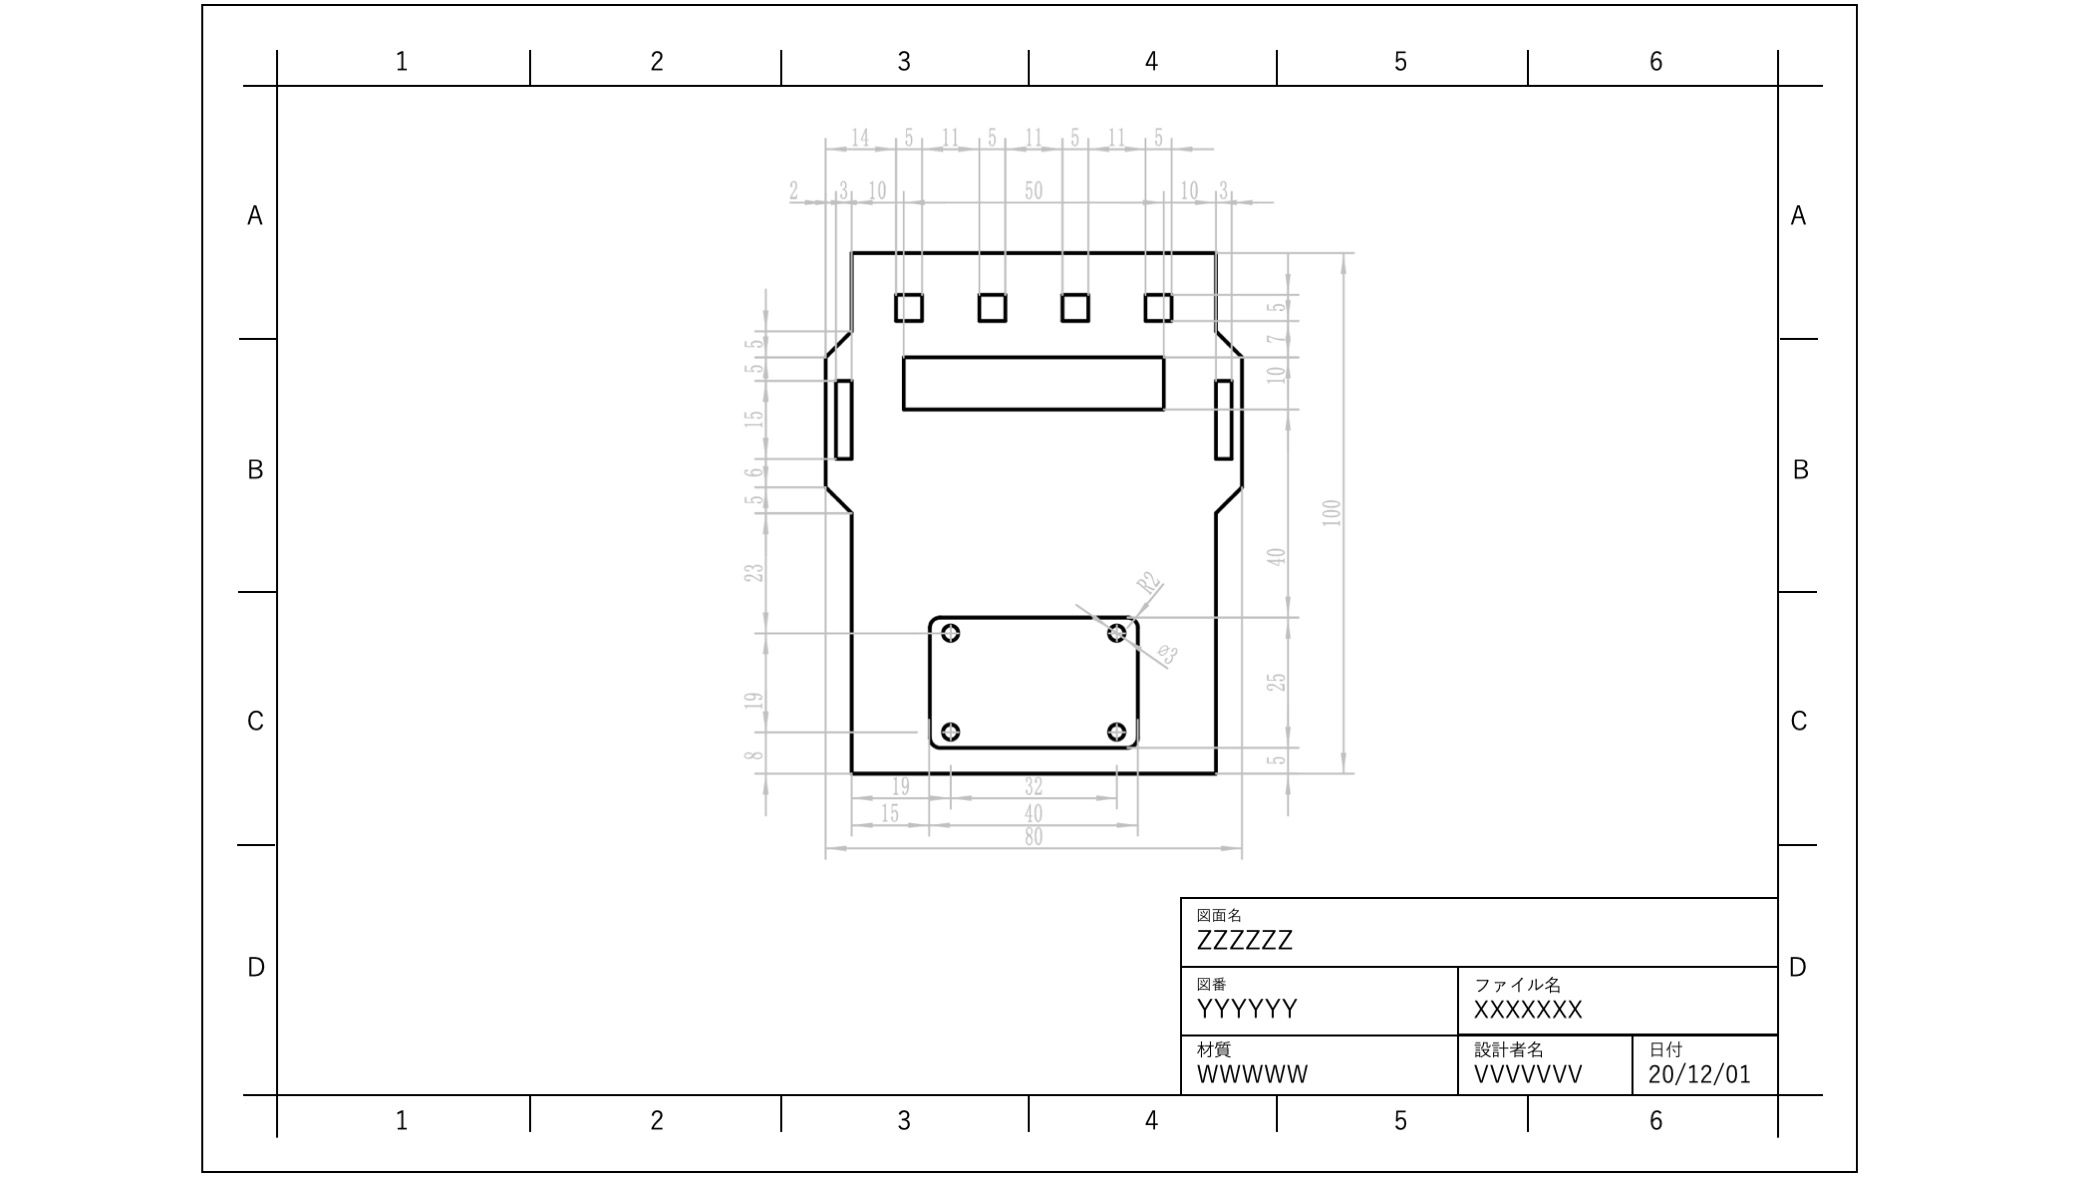circle: (1100, 616, 1134, 645), (1103, 708, 1129, 744), (940, 717, 968, 746), (940, 622, 965, 645)
rectangle: (893, 352, 1177, 418), (1206, 363, 1248, 470), (822, 366, 862, 469), (1132, 274, 1190, 336), (1054, 281, 1100, 336), (963, 286, 1020, 327), (886, 290, 937, 327)
